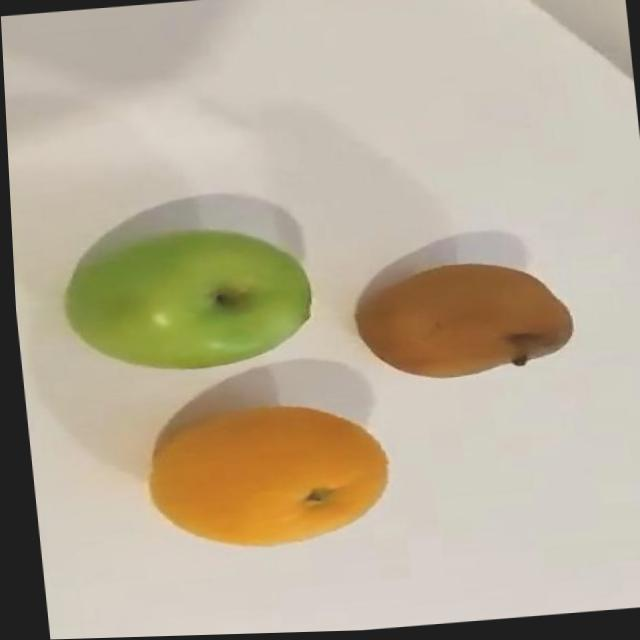Apple: (54, 222, 315, 381), (346, 259, 574, 389)
Orange: (135, 399, 391, 559)
